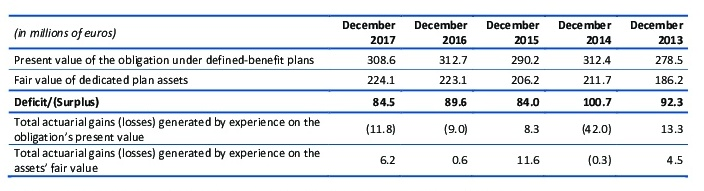table: (0, 0, 704, 191)
